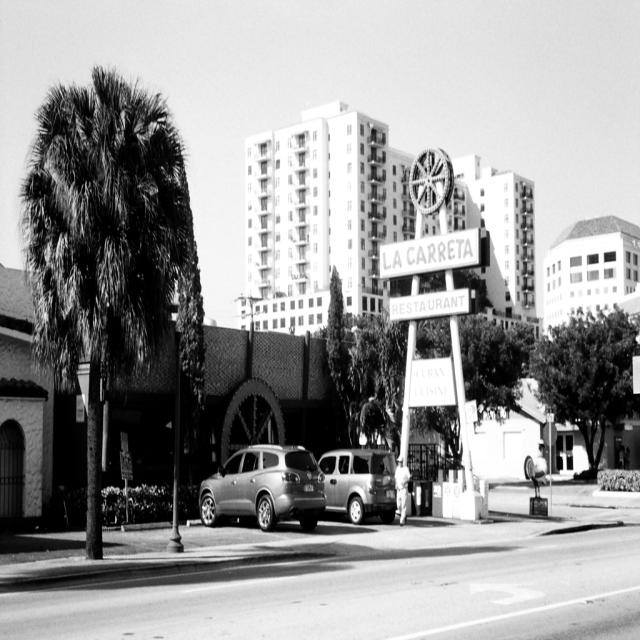car: (197, 446, 325, 532)
